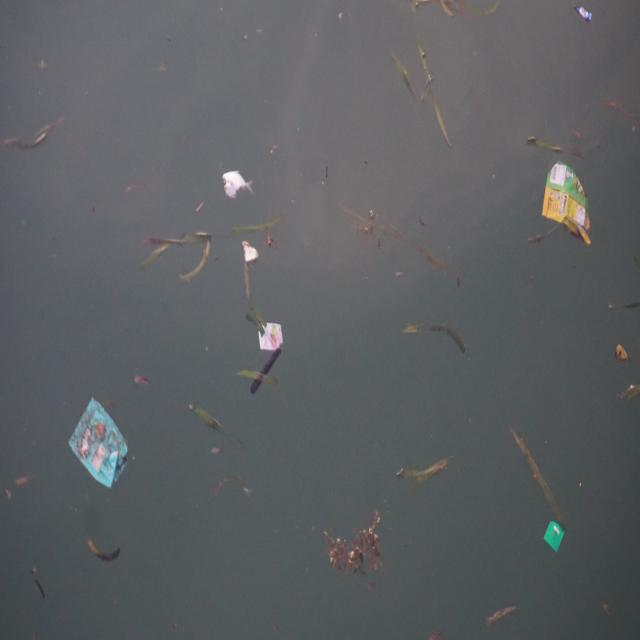Bungkus Makanan: (71, 398, 132, 498), (542, 161, 596, 252), (544, 519, 566, 553), (574, 5, 595, 24)
Bungkus Minuman: (256, 318, 286, 355)
